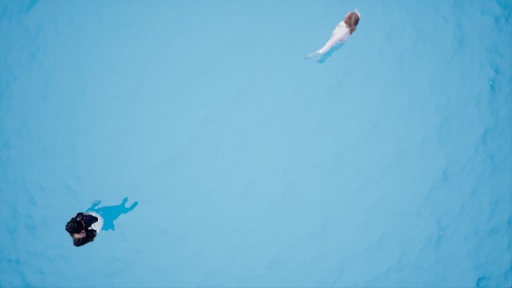person: (53, 196, 148, 249), (316, 5, 364, 71)
